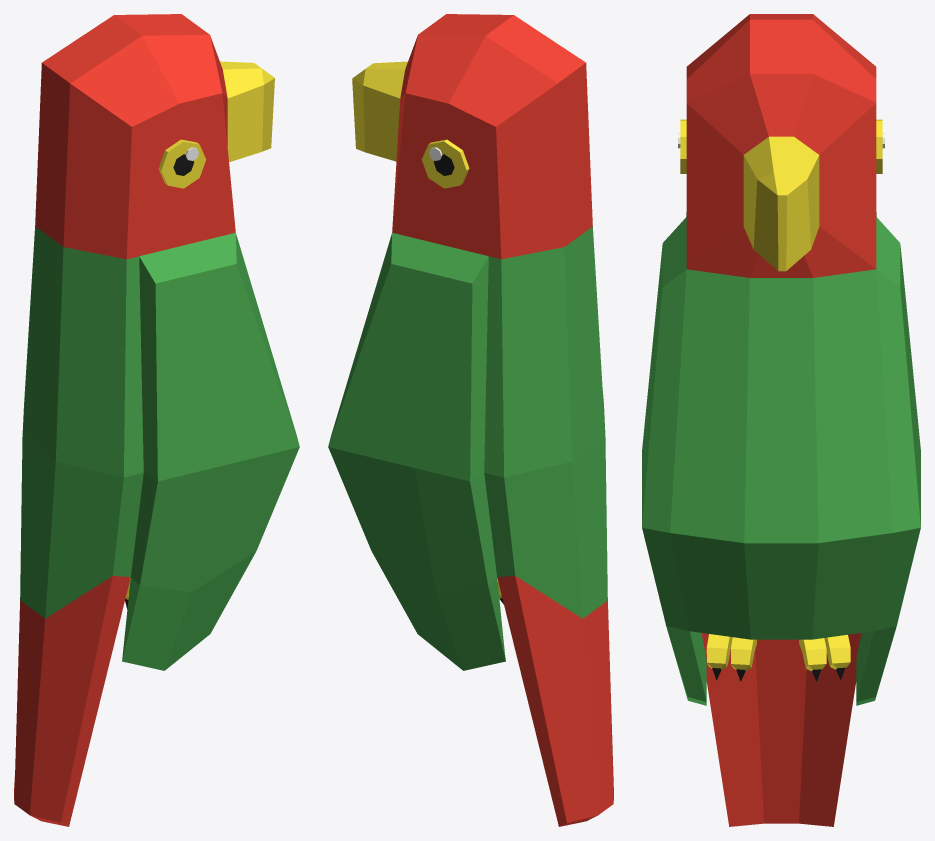
Rendered from parrot.glb.
3 renders of one model, left to right at view 1: azimuth 30°, elevation 25°; view 2: azimuth 150°, elevation 25°; view 3: azimuth 270°, elevation 25°, orthographic. The views are drawn at different scales.
Visible parts, largest first — view 1: Parrot_Cube.031; view 2: Parrot_Cube.031; view 3: Parrot_Cube.031.
Part boxes in pixels (box(x1,y1,x2,y2)): Parrot_Cube.031: box(14, 14, 299, 826); Parrot_Cube.031: box(328, 14, 613, 826); Parrot_Cube.031: box(642, 14, 920, 826).
Bounding box in the file's own units: 4.88 × 14.22 × 4.2.
